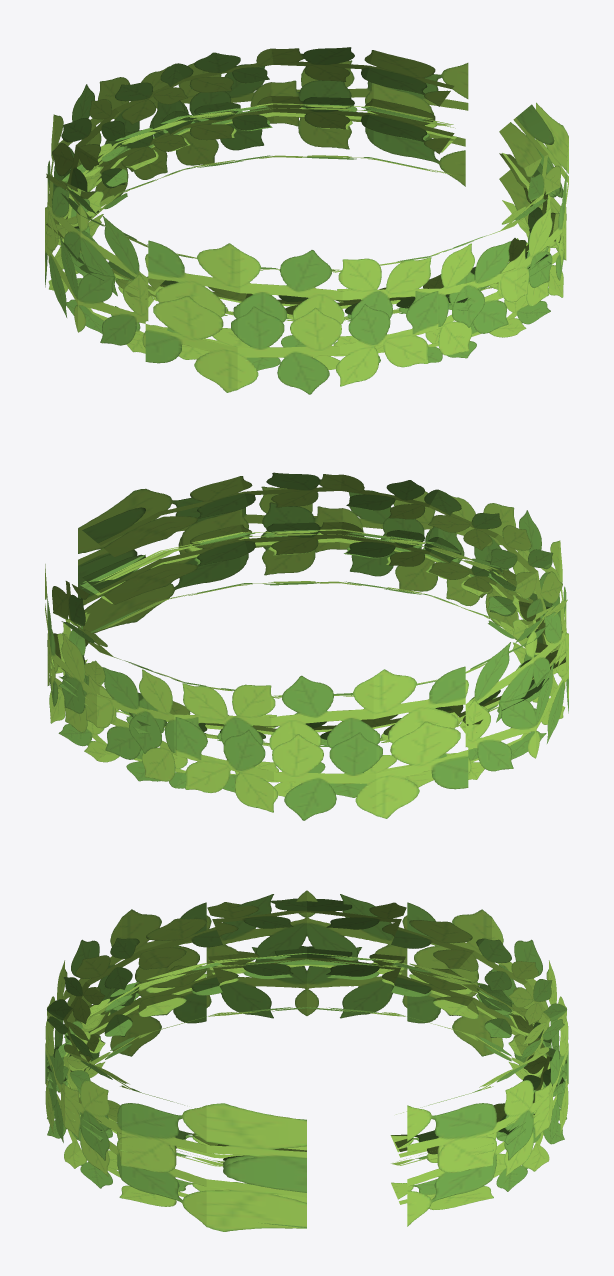
File: VineHands.fbx
3 renders of one model, top to bottom at view 1: azimuth 30°, elevation 25°; view 2: azimuth 150°, elevation 25°; view 3: azimuth 270°, elevation 25°, orthographic.
Parts seen in each view (by area): view 1: Shell; view 2: Shell; view 3: Shell.
Boxes of the visible parts, left/top/right/bottom form: Shell: left=45, top=47, right=568, bottom=394; Shell: left=45, top=472, right=568, bottom=820; Shell: left=45, top=890, right=568, bottom=1231.
Bounding box in the file's own units: 1.1 × 0.3619 × 1.09.
